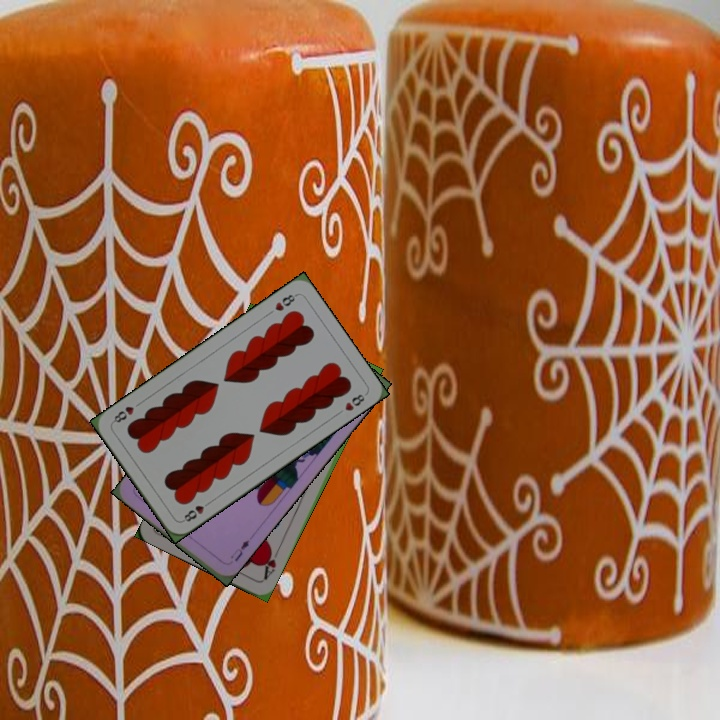EU: (226, 536, 252, 564)
H8: (178, 497, 214, 525), (271, 290, 300, 314)
HA: (259, 545, 279, 582)
